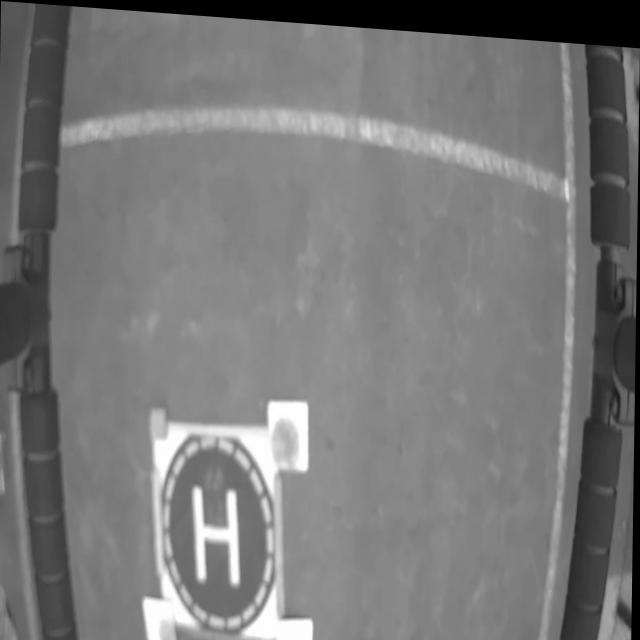Helipad: (194, 482, 241, 585)
